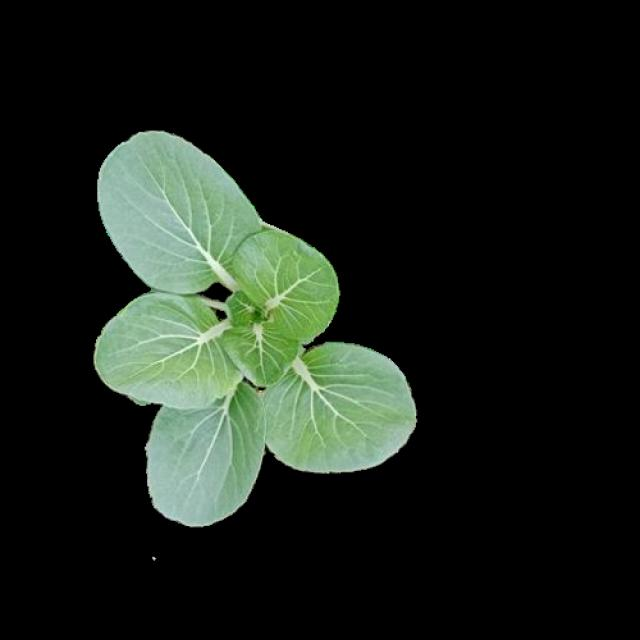healthy: (94, 125, 414, 522)
not-mature: (98, 128, 418, 525)
